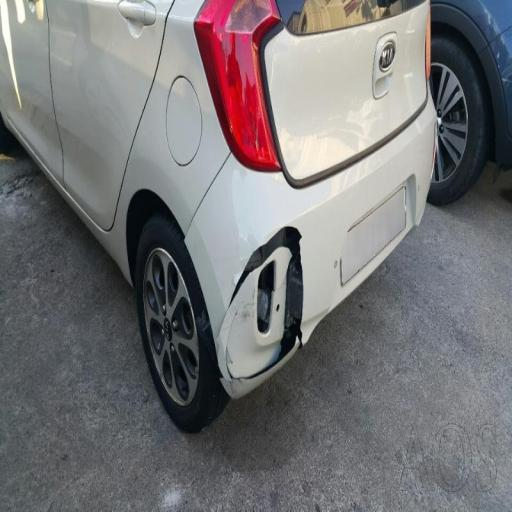broken: (207, 214, 339, 404)
